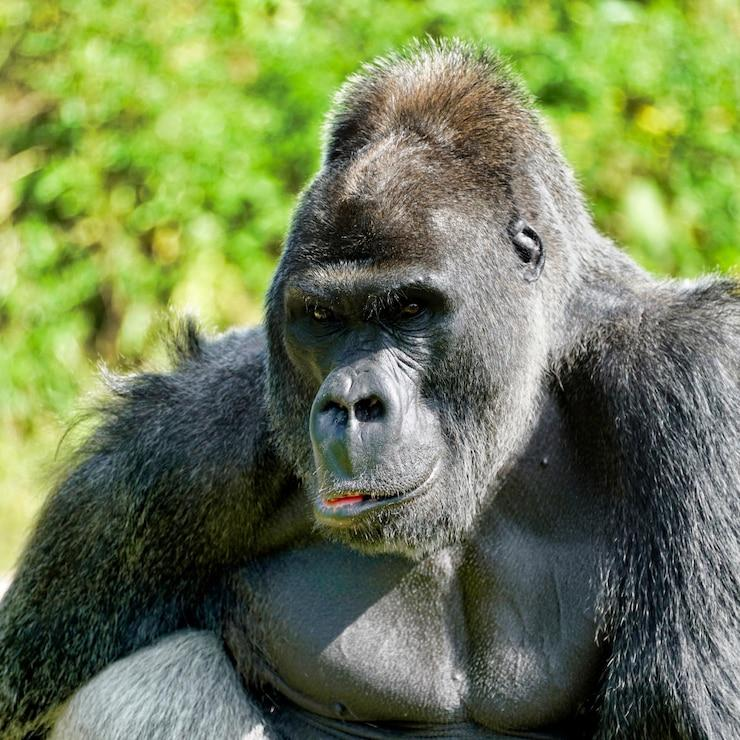gorille_Autres: (0, 0, 740, 738)
